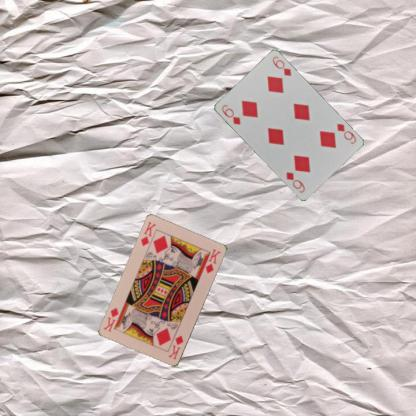6d: (334, 121, 357, 145), (219, 102, 241, 126)
Kd: (166, 333, 185, 361), (138, 219, 157, 247)
